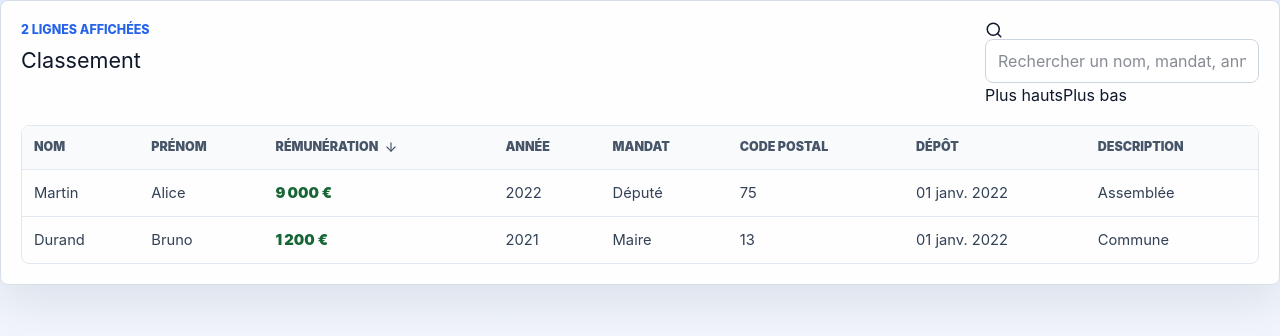
Test: SalaryTable › filters rows with the search field
The width and height of the screenshot is (1280, 336).
Step 1. Type "durand" into the field with placeholder "Rechercher un nom, mandat, année..." → (1122, 61), box [985,39,1259,83]
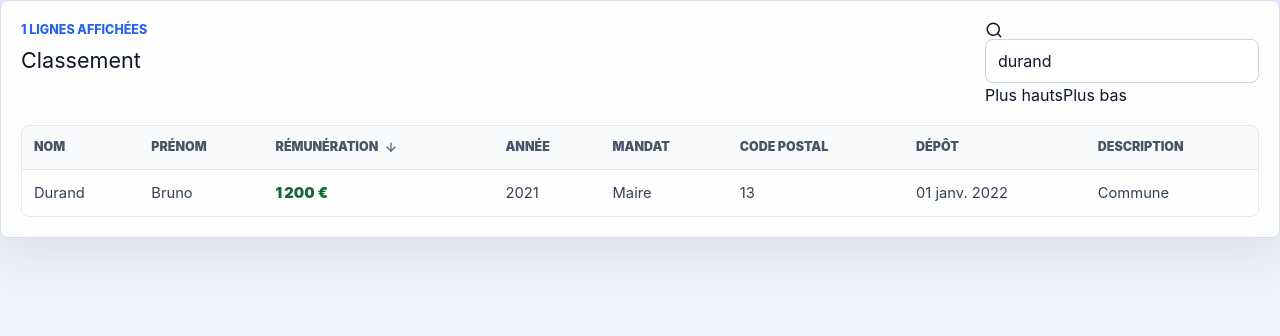
Expected: the text "Durand" is shown, [22,169,139,216]
Now the text "Martin" is gone
